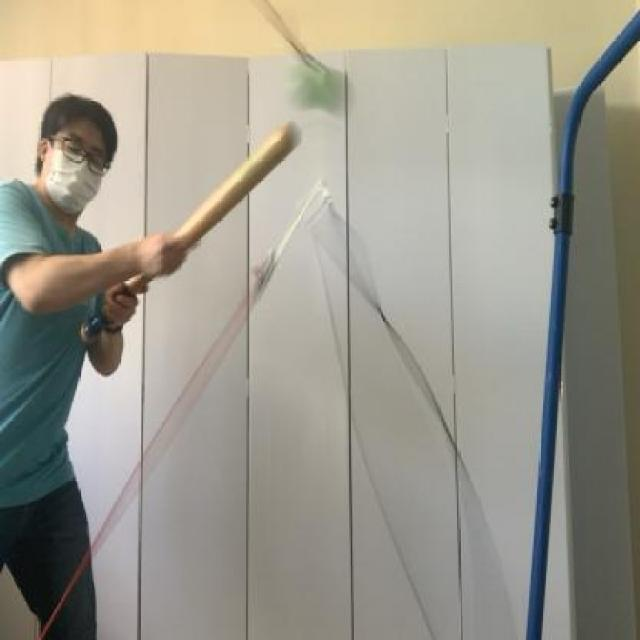baseball: (281, 46, 356, 114)
